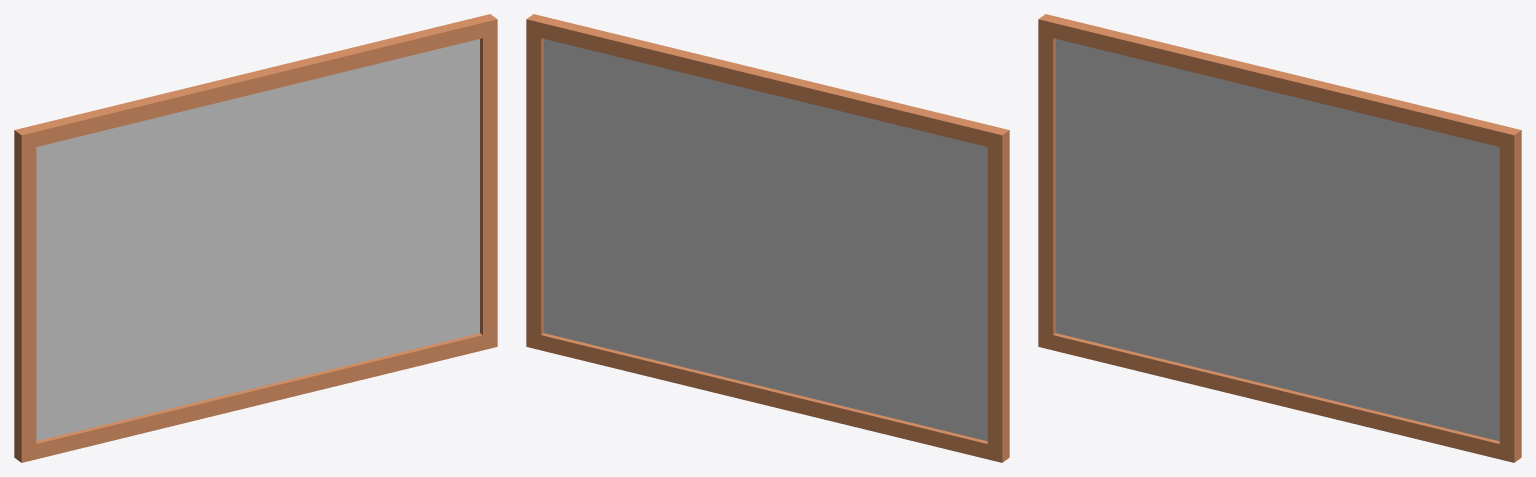
Rendered from Glass_Wall Broken.fbx.
3 renders of one model, left to right at view 1: azimuth 30°, elevation 25°; view 2: azimuth 150°, elevation 25°; view 3: azimuth 330°, elevation 25°, orthographic.
Parts seen in each view (by area): view 1: Broken.005, Broken, Broken.004, Broken.006, Broken.007, Broken.010, Broken.008, Broken.009, Broken.001; view 2: Broken.005, Broken, Broken.004, Broken.006, Broken.007, Broken.010, Broken.008, Broken.009, Broken.001; view 3: Broken.005, Broken, Broken.004, Broken.006, Broken.007, Broken.010, Broken.008, Broken.009, Broken.001.
Boxes of the visible parts, bbox=[...] form: Broken.005: bbox=[71, 110, 352, 309]; Broken: bbox=[14, 14, 497, 462]; Broken.004: bbox=[258, 172, 479, 386]; Broken.006: bbox=[36, 139, 163, 365]; Broken.007: bbox=[36, 310, 211, 441]; Broken.010: bbox=[164, 246, 309, 398]; Broken.008: bbox=[352, 39, 479, 147]; Broken.009: bbox=[310, 131, 479, 245]; Broken.001: bbox=[186, 64, 377, 131]; Broken.005: bbox=[671, 110, 952, 309]; Broken: bbox=[526, 14, 1009, 462]; Broken.004: bbox=[544, 172, 765, 386]; Broken.006: bbox=[860, 139, 987, 365]; Broken.007: bbox=[812, 310, 987, 441]; Broken.010: bbox=[714, 246, 859, 398]; Broken.008: bbox=[544, 39, 671, 147]; Broken.009: bbox=[544, 131, 713, 245]; Broken.001: bbox=[646, 64, 837, 131]; Broken.005: bbox=[1093, 48, 1374, 272]; Broken: bbox=[1038, 14, 1521, 462]; Broken.004: bbox=[1280, 272, 1499, 441]; Broken.006: bbox=[1056, 39, 1185, 264]; Broken.007: bbox=[1056, 257, 1233, 376]; Broken.010: bbox=[1186, 264, 1332, 387]; Broken.008: bbox=[1375, 123, 1499, 254]; Broken.009: bbox=[1332, 178, 1499, 280]; Broken.001: bbox=[1208, 76, 1399, 177].
Size of the model in its own units: 931 by 613 by 24.38.
